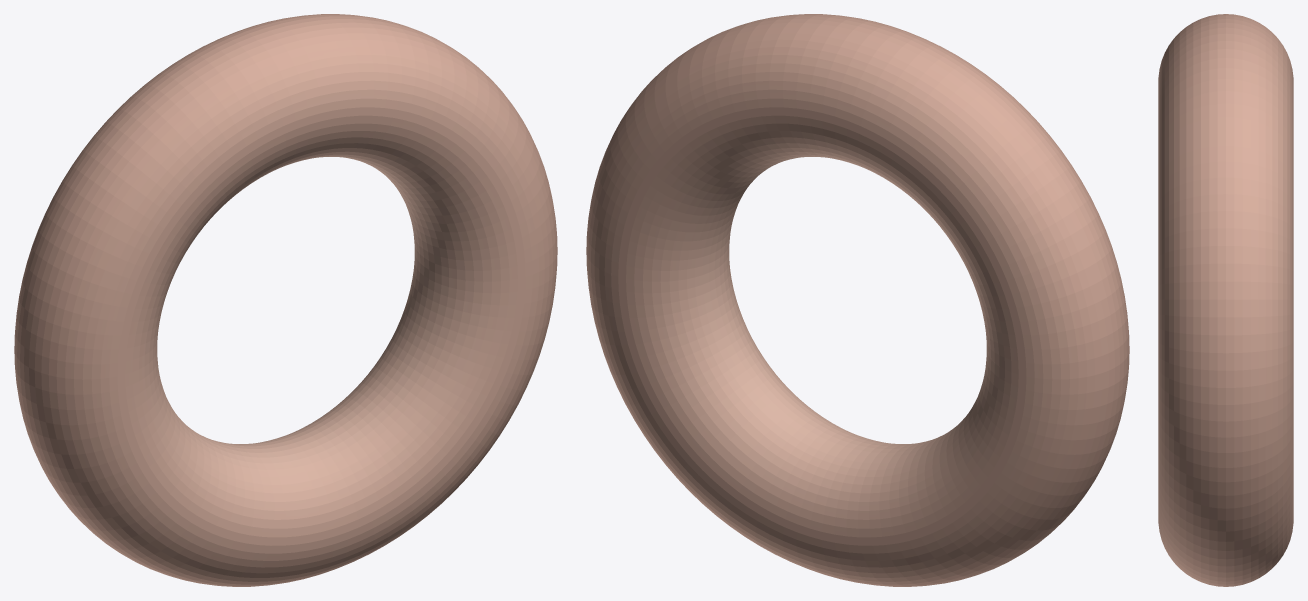
3 renders of one model, left to right at view 1: azimuth 30°, elevation 25°; view 2: azimuth 150°, elevation 25°; view 3: azimuth 270°, elevation 25°, orthographic. The views are drawn at different scales.
Visible parts, largest first — view 1: world; view 2: world; view 3: world.
Boxes of the visible parts, x1=… form: world: x1=14, y1=14, x2=557, y2=586; world: x1=586, y1=14, x2=1129, y2=586; world: x1=1158, y1=14, x2=1293, y2=586.
Size of the model in its own units: 28.8 by 28.8 by 6.79.
